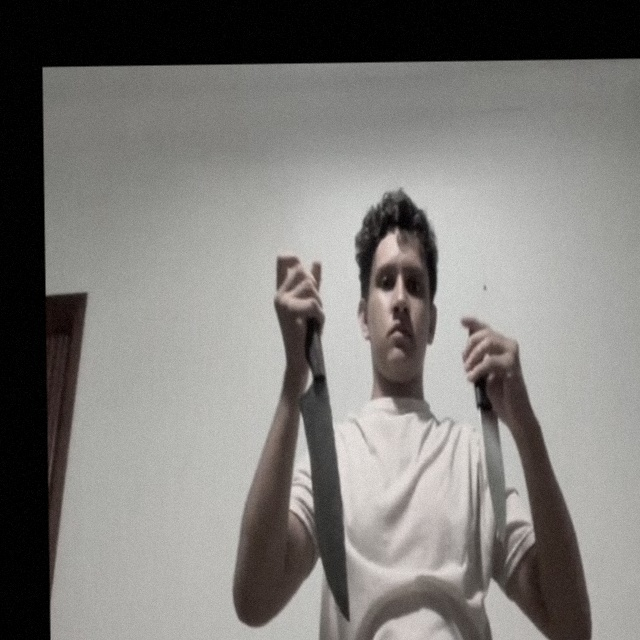Sharp-Object: (298, 383, 349, 620), (479, 408, 507, 546)
